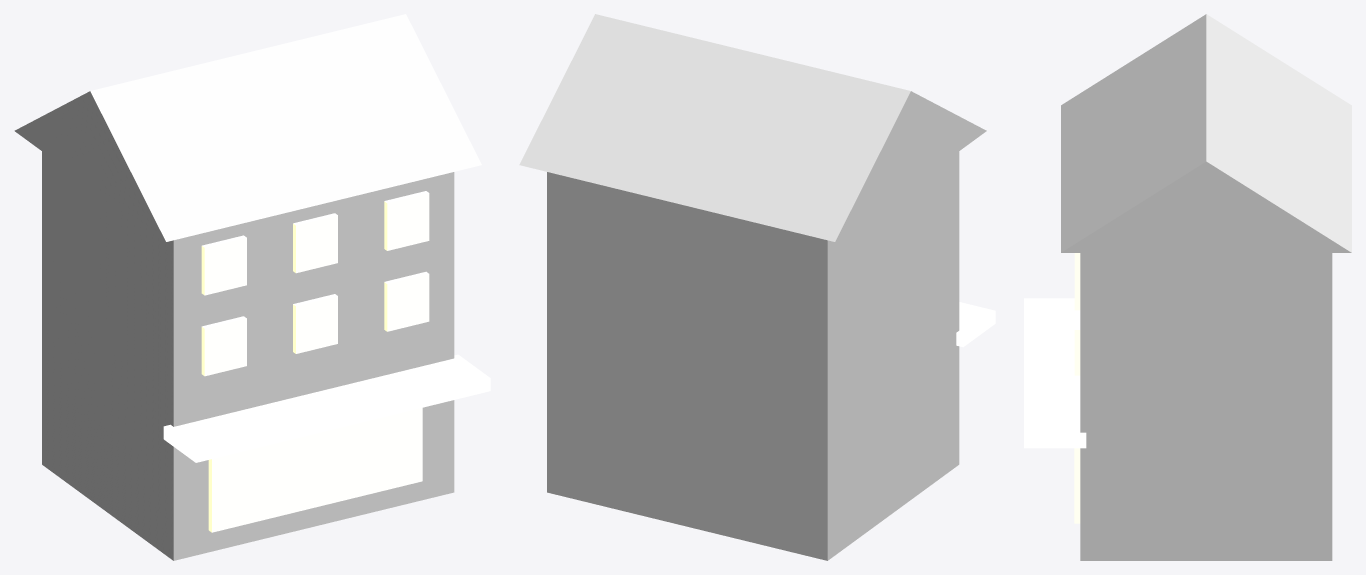
Rendered from home_townhouse_shop.glb.
3 renders of one model, left to right at view 1: azimuth 30°, elevation 25°; view 2: azimuth 150°, elevation 25°; view 3: azimuth 270°, elevation 25°, orthographic. The views are drawn at different scales.
Visible parts, largest first — view 1: Body, Roof, ShopWindow, Awning, WindowMid0, WindowMid2, WindowTop0, WindowTop2, WindowMid1, WindowTop1; view 2: Body, Roof, Awning; view 3: Body, Roof, Awning, ShopWindow, WindowMid2.
Boxes of the visible parts, box(x1,y1,x2,y2) form: Body: box(42, 151, 454, 560); Roof: box(14, 14, 481, 241); ShopWindow: box(208, 408, 422, 532); Awning: box(163, 354, 490, 462); WindowMid0: box(201, 316, 246, 376); WindowMid2: box(384, 271, 429, 331); WindowTop0: box(201, 235, 246, 295); WindowTop2: box(384, 191, 429, 250); WindowMid1: box(293, 294, 337, 353); WindowTop1: box(293, 213, 337, 273); Body: box(547, 151, 959, 560); Roof: box(519, 14, 986, 241); Awning: box(956, 302, 995, 347); Body: box(1080, 253, 1332, 560); Roof: box(1061, 14, 1351, 252); Awning: box(1024, 298, 1086, 448); ShopWindow: box(1074, 448, 1080, 523); WindowMid2: box(1074, 310, 1080, 375).
Size of the model in its own units: 9 by 11.6 by 8.45.
